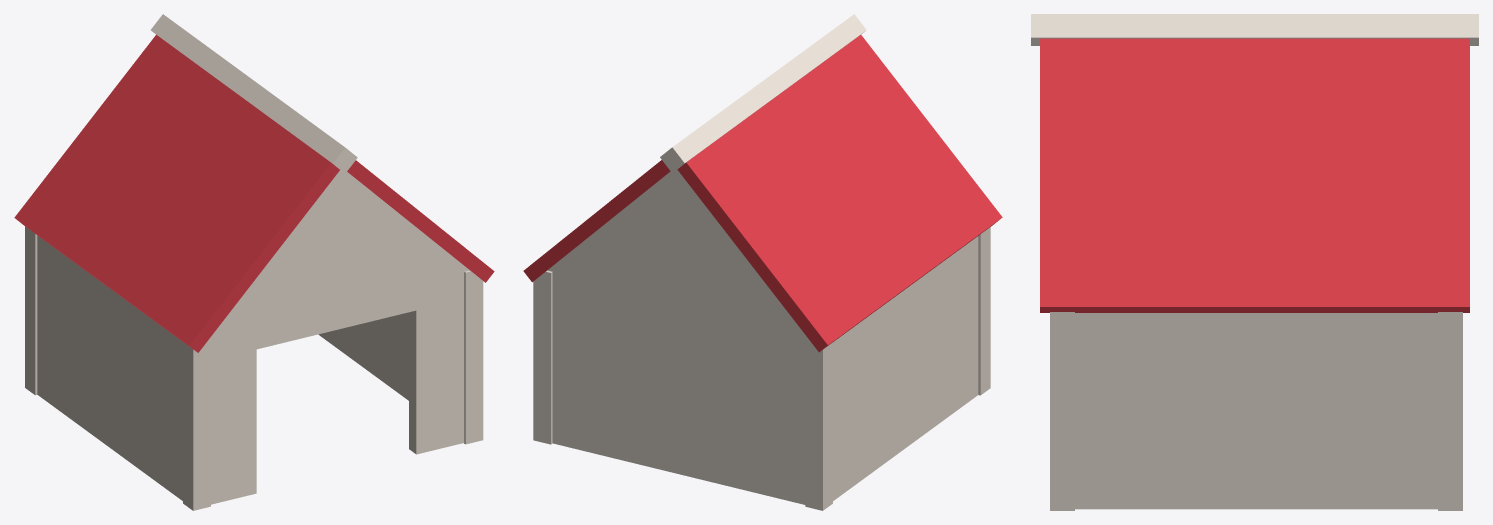
Rendered from mode_dog_kennel.FBX.
3 renders of one model, left to right at view 1: azimuth 30°, elevation 25°; view 2: azimuth 150°, elevation 25°; view 3: azimuth 270°, elevation 25°, orthographic. The views are drawn at different scales.
Parts seen in each view (by area): view 1: Box011; view 2: Box011; view 3: Box011.
Part boxes in pixels (x1=…): Box011: x1=14, y1=14, x2=494, y2=510; Box011: x1=523, y1=14, x2=1002, y2=510; Box011: x1=1031, y1=14, x2=1478, y2=510.
Size of the model in its own units: 121 by 126 by 125.
1 material, 1 textured.
